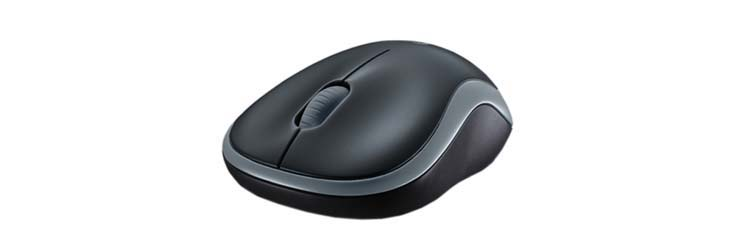logitech-mouse-m185: (218, 32, 520, 219)
